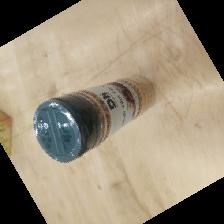TayNinh_green: (30, 72, 156, 166)
